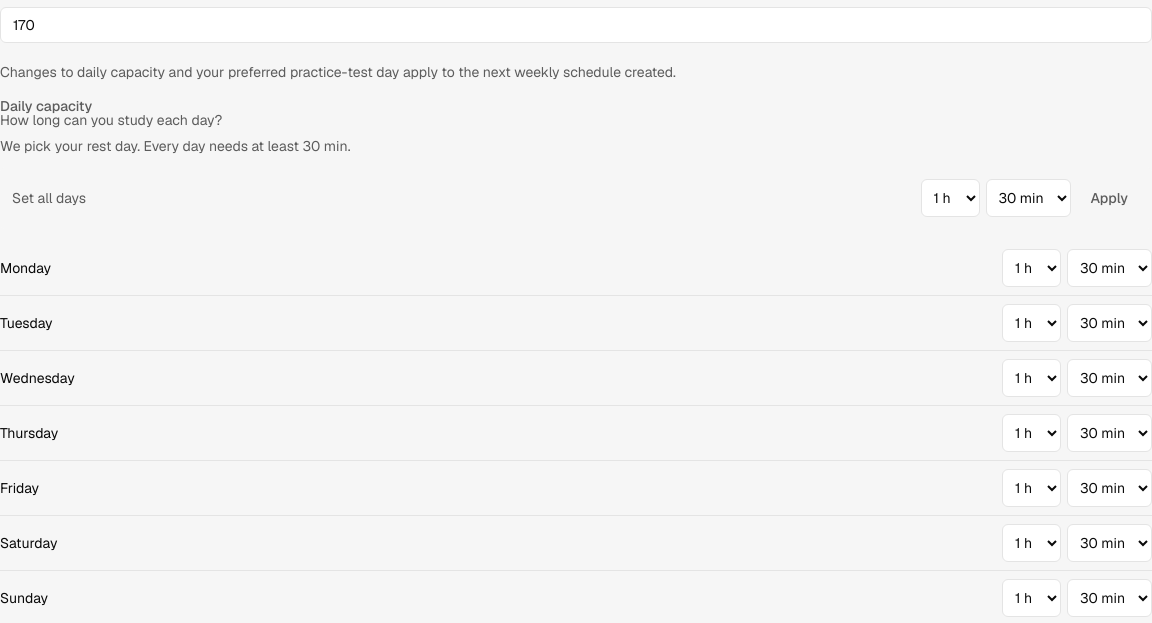
Test: StudentIntakeForm › shows the failure toast when the save fails unexpectedly, and keeps the typed values
Replace the text in the number field labelled "Goal score" with "178". click: {"x": 576, "y": 25}
box: [0,7,1151,43]
(page scrolled)
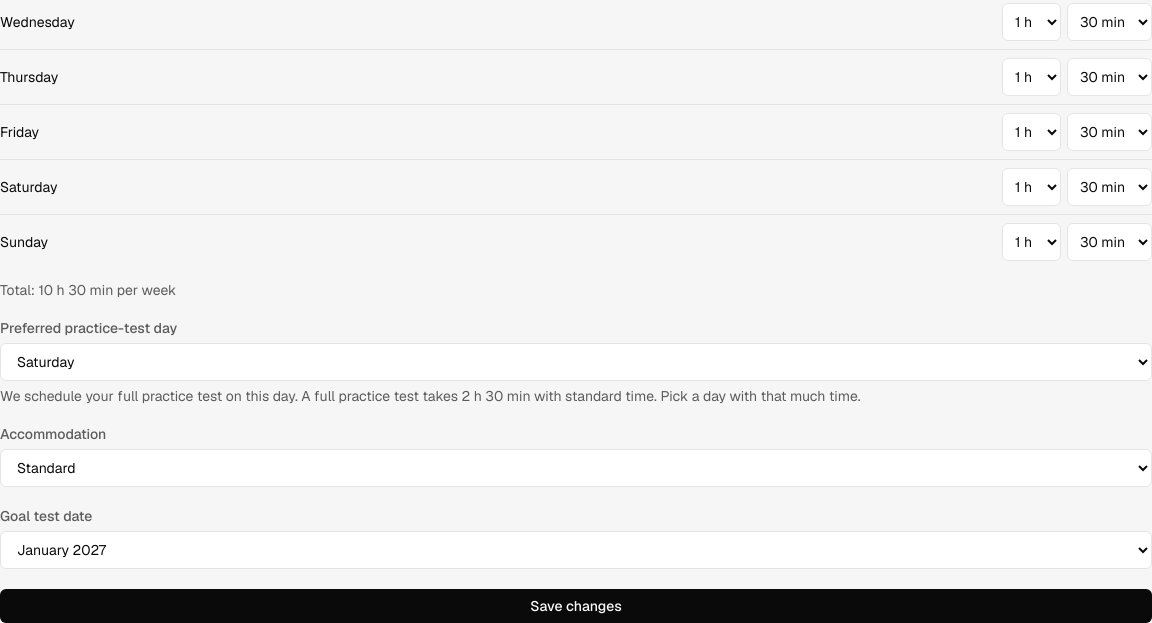
Click the button "Save changes". click: {"x": 576, "y": 606}
box: [0,589,1151,622]
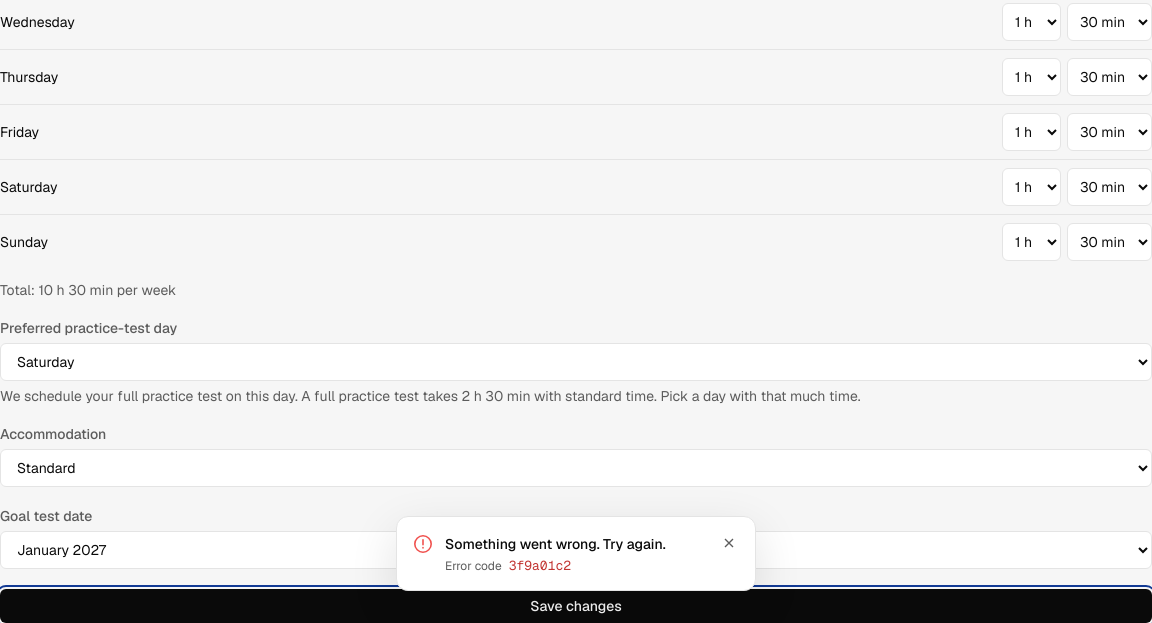
Check: the message shows "Something went wrong. Try again.", box [445,535,666,553]
Check: the message shows "Error code 3f9a01c2", box [396,516,756,591]
